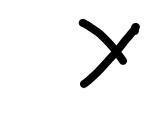mult: (77, 17, 140, 90)
